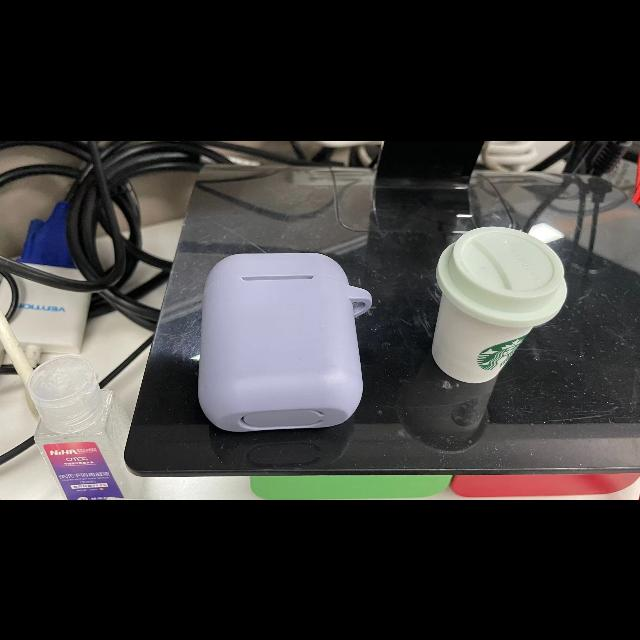airpods: (199, 252, 371, 432)
